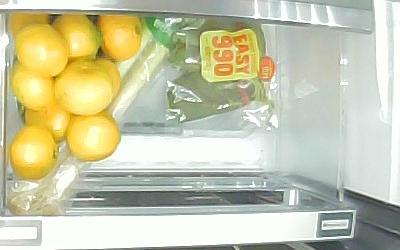tangerine: (56, 61, 114, 114), (15, 22, 67, 77), (10, 124, 57, 179), (50, 13, 101, 61), (68, 115, 120, 161), (96, 14, 144, 60), (12, 62, 54, 109), (23, 103, 69, 143), (86, 58, 121, 101), (7, 14, 49, 37)
